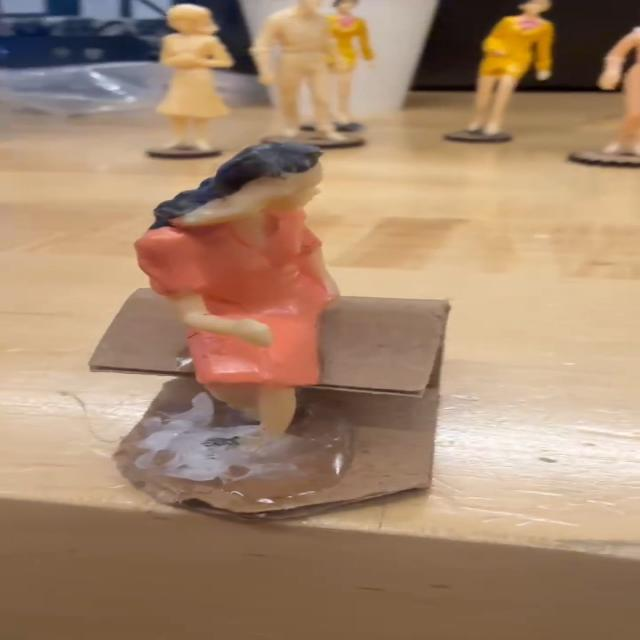Authorized: (128, 140, 358, 442)
